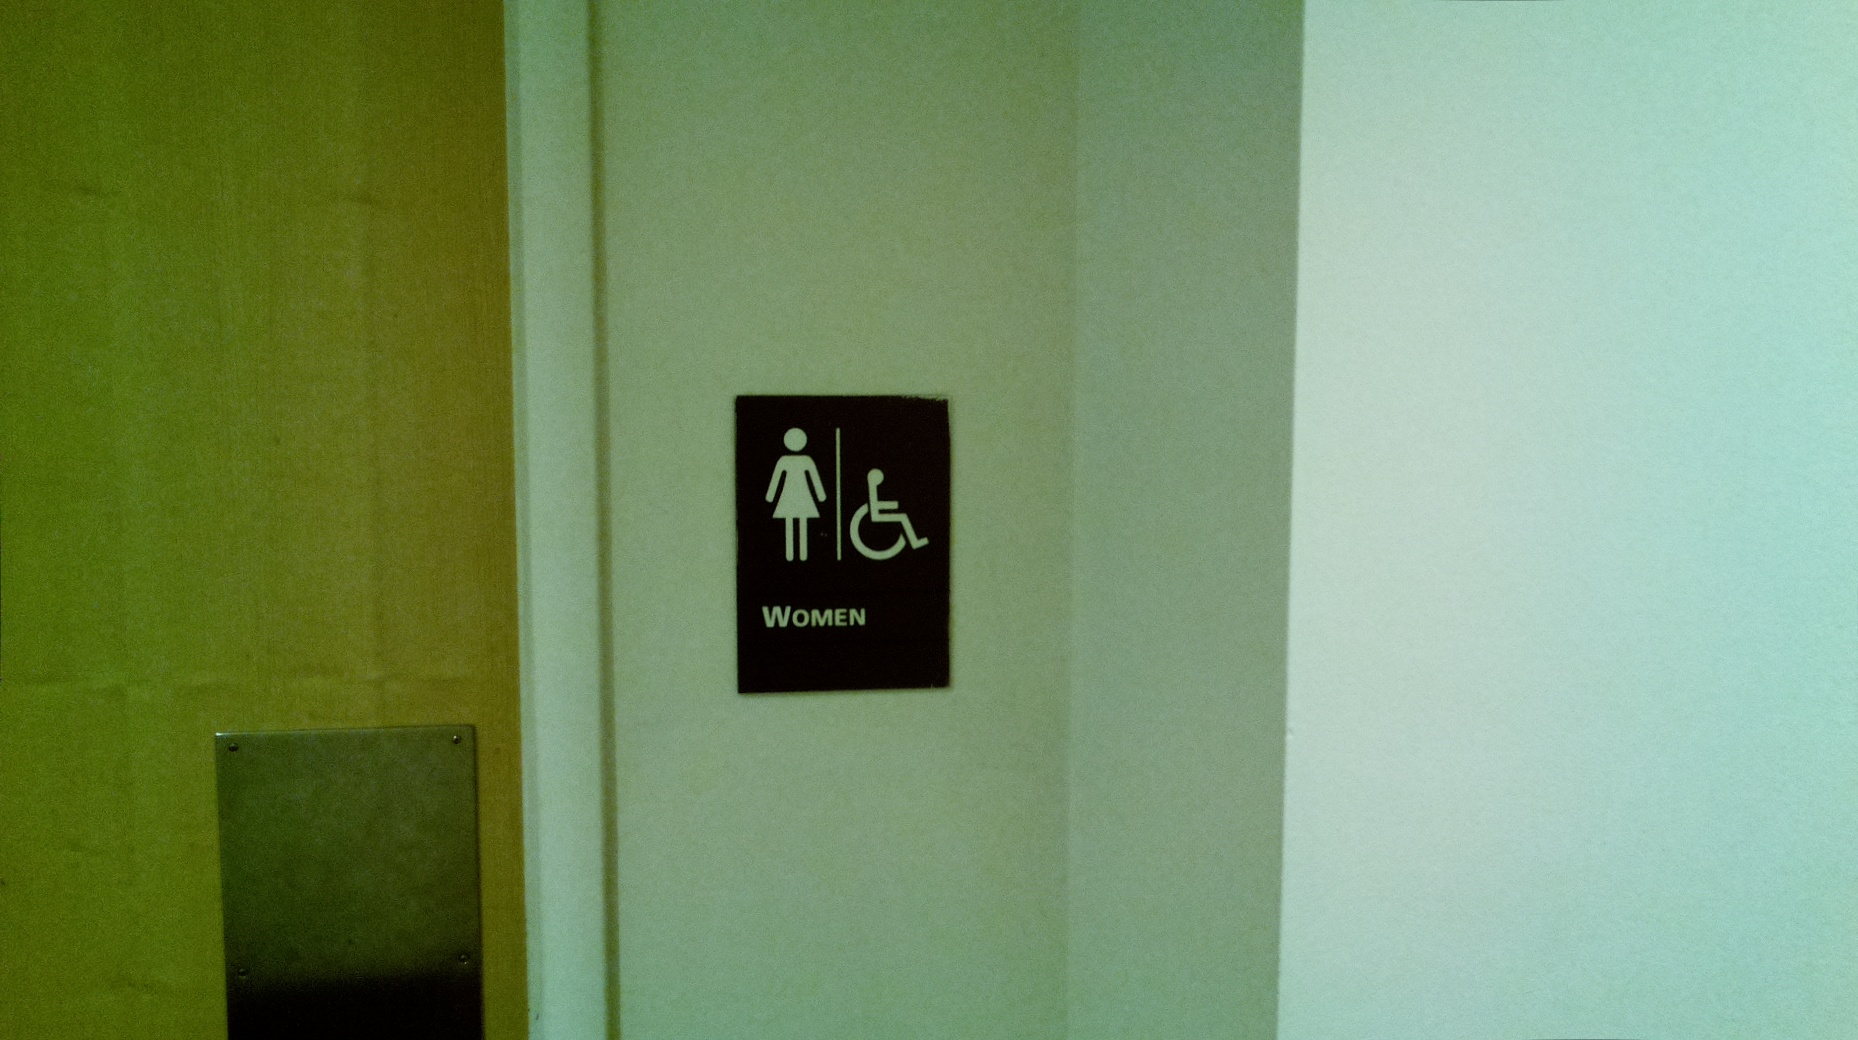bathroom sign: (726, 382, 962, 708)
